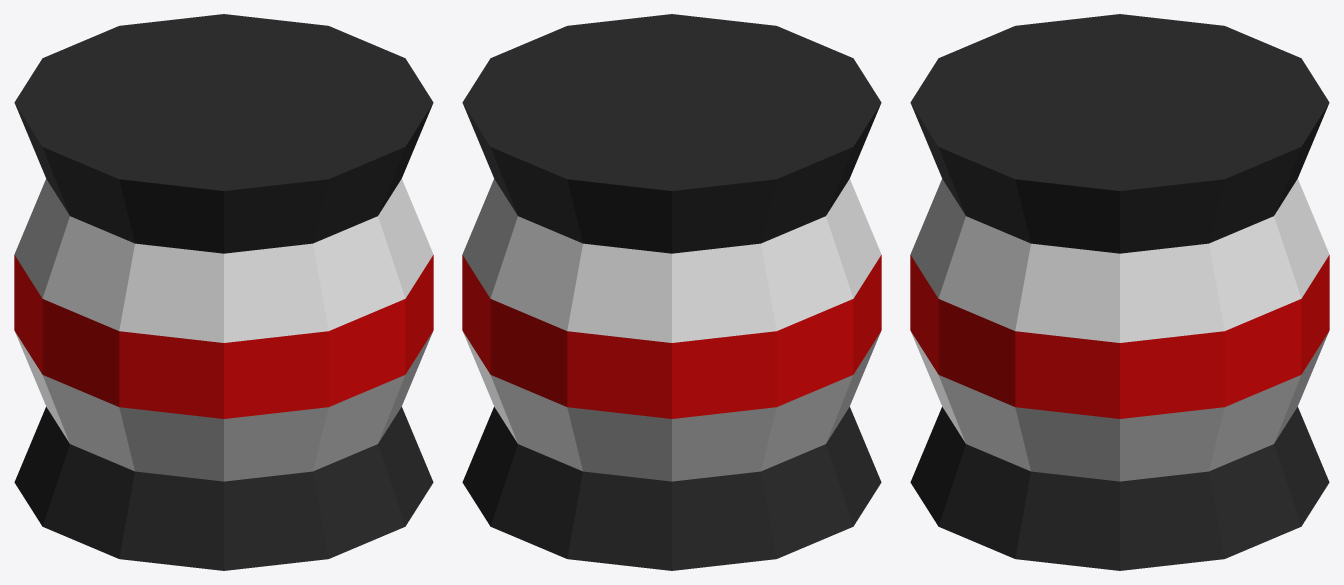
Rendered from Fuse.fbx.
The picture shows the model from 3 angles, left to right: view 1: azimuth 30°, elevation 25°; view 2: azimuth 150°, elevation 25°; view 3: azimuth 270°, elevation 25°; orthographic projection.
Visible parts, largest first — view 1: Cylinder; view 2: Cylinder; view 3: Cylinder.
Boxes of the visible parts, x1,y1,x2,y2 form: Cylinder: (14,14,433,570); Cylinder: (462,14,881,570); Cylinder: (910,14,1329,570).
Bounding box in the file's own units: 200 × 200 × 200.
